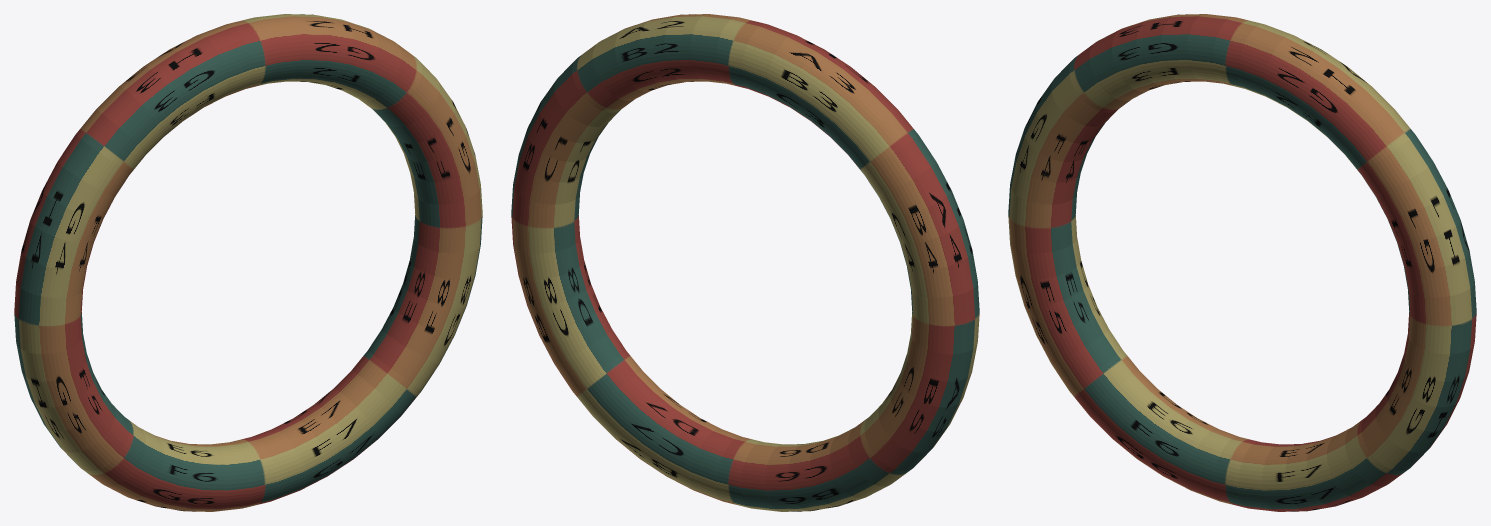
File: texture_torus_R22_r6.glb
The picture shows the model from 3 angles, left to right: view 1: azimuth 30°, elevation 25°; view 2: azimuth 150°, elevation 25°; view 3: azimuth 330°, elevation 25°; orthographic projection.
Visible parts, largest first — view 1: world; view 2: world; view 3: world.
Boxes of the visible parts, x1,y1,x2,y2 form: world: (14, 14, 482, 511); world: (511, 14, 979, 511); world: (1008, 14, 1476, 511).
Bounding box in the file's own units: 28.27 × 28.21 × 3.59.
Materials: 1 (1 with a texture image).
